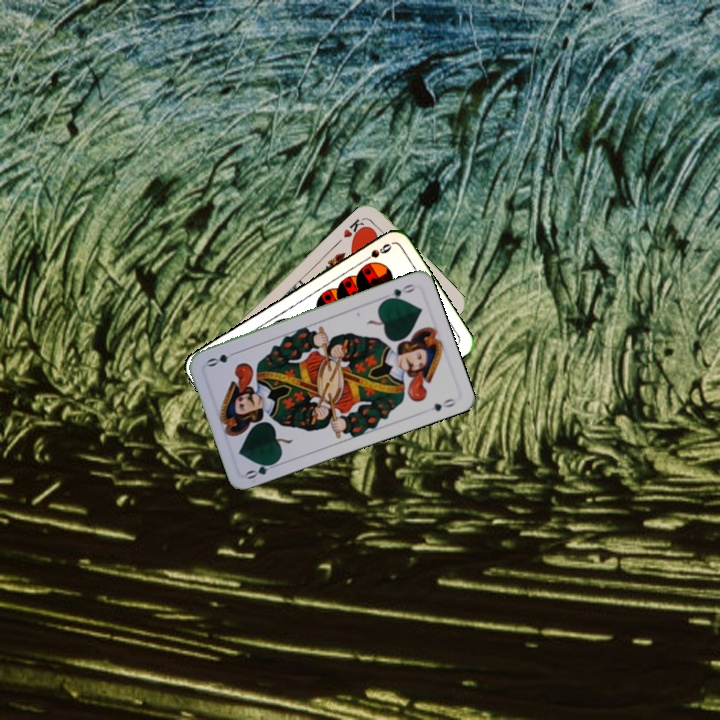GO: (242, 456, 282, 482), (380, 280, 418, 304)
HK: (339, 213, 370, 243)
S9: (357, 239, 394, 266)
